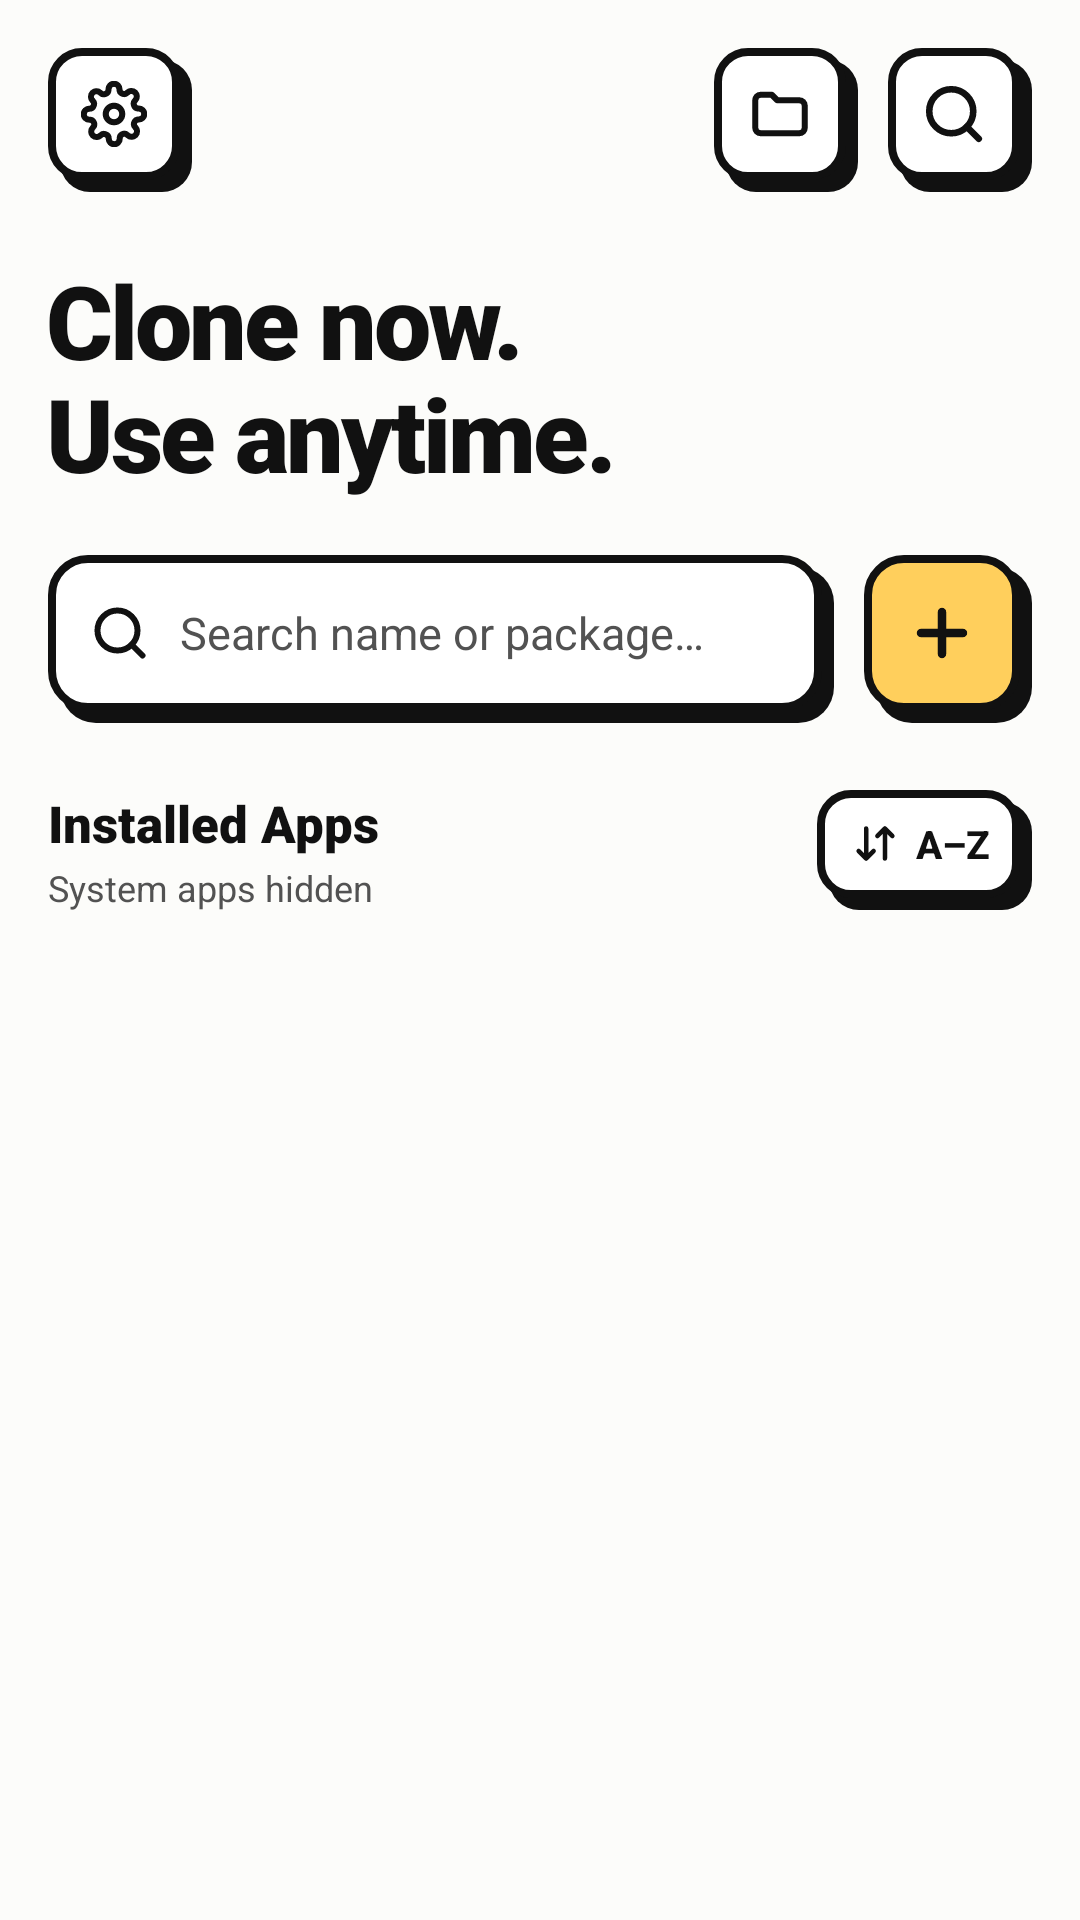

Icon click points for this 1080w x 1920h phone screenshot, format [x,y]:
Clone from APK, APKS, or XAPK file: [948,639]
Clone Results: [786,120]
Search apps: [960,120]
Settings: [120,120]
sort: [875,843]
